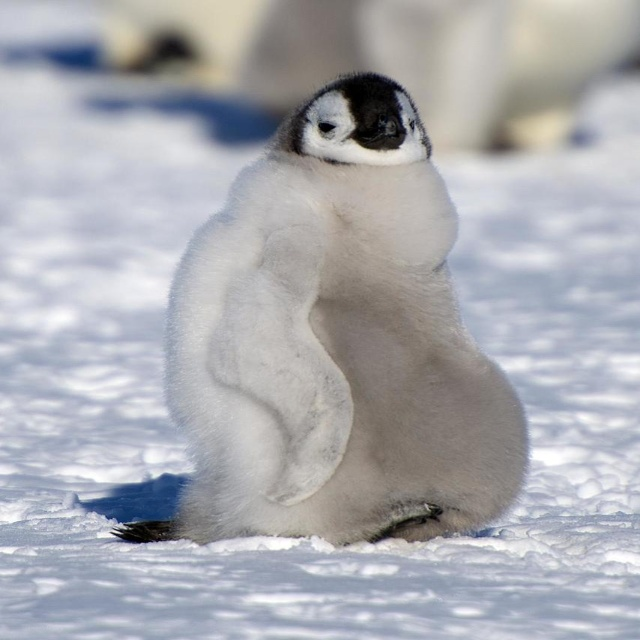Penguin: (167, 70, 531, 550)
